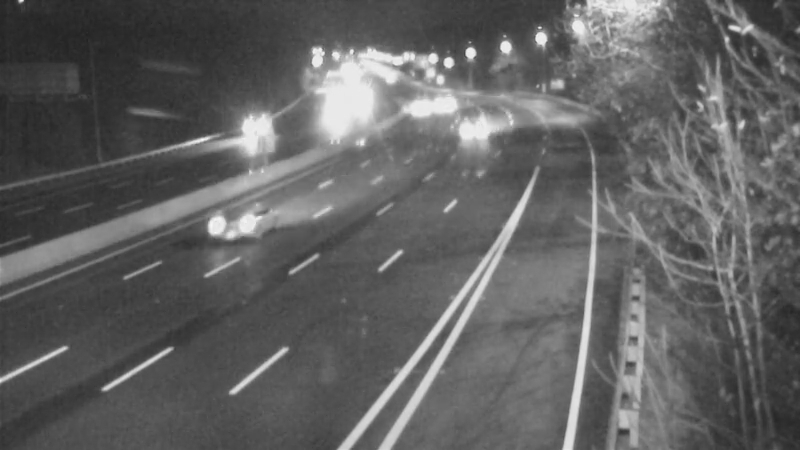vehicle: (195, 188, 275, 268), (416, 77, 466, 127), (389, 84, 439, 134), (451, 101, 501, 151), (228, 101, 278, 151), (303, 88, 353, 138)
